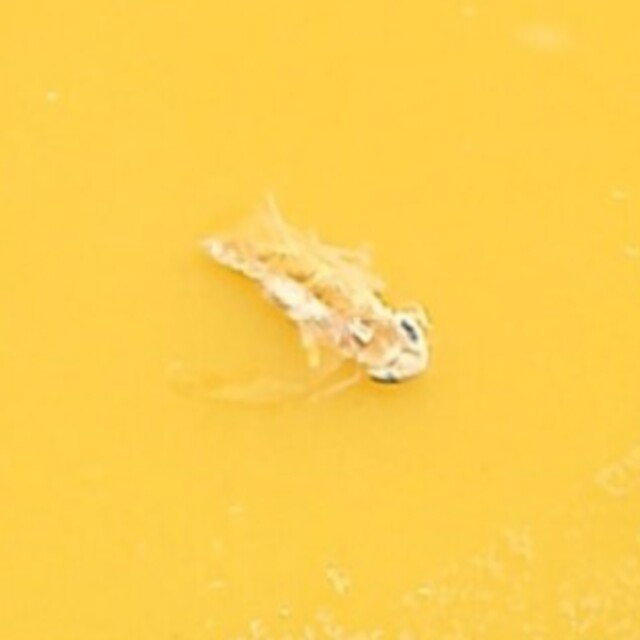Hemiptera: (204, 235, 436, 405)
